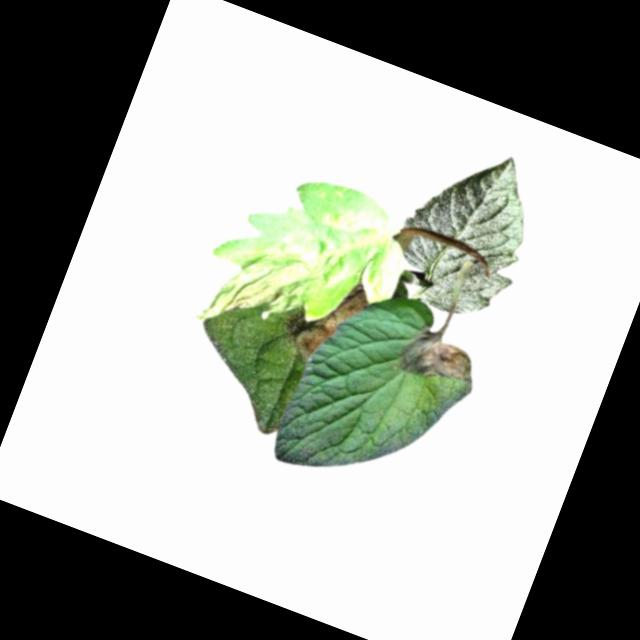Late_blight: (195, 220, 334, 353), (271, 262, 375, 376), (394, 321, 484, 395), (316, 208, 353, 237)
healthy: (376, 129, 555, 331)
